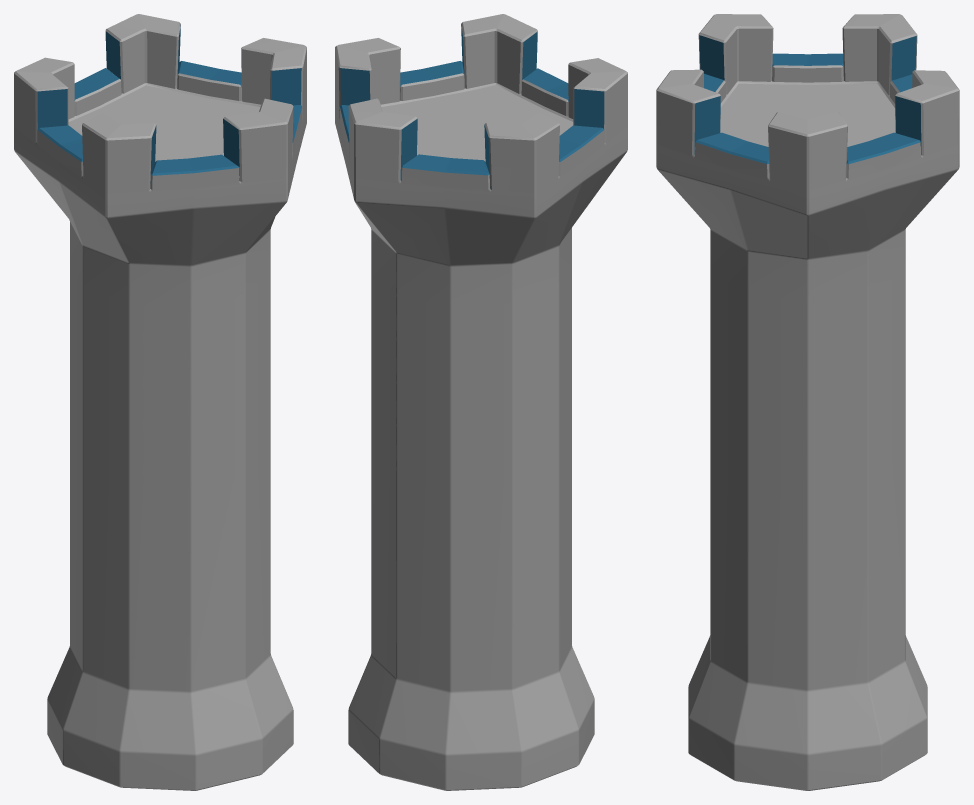
File: TowerBlue.fbx
3 views of the same model, side by side, from view 1: azimuth 30°, elevation 25°; view 2: azimuth 150°, elevation 25°; view 3: azimuth 270°, elevation 25° (orthographic).
Visible parts, largest first — view 1: pCylinder1; view 2: pCylinder1; view 3: pCylinder1.
Part boxes in pixels (x1,y1,x2,y2): pCylinder1: (14,14,306,790); pCylinder1: (335,14,627,790); pCylinder1: (656,14,959,790).
Bounding box in the file's own units: 5.61 × 14.33 × 5.87.
